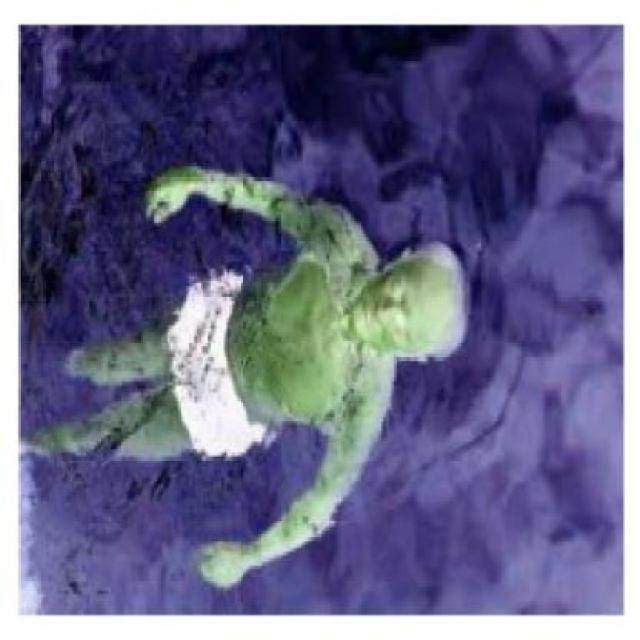drowning: (186, 243, 462, 445)
